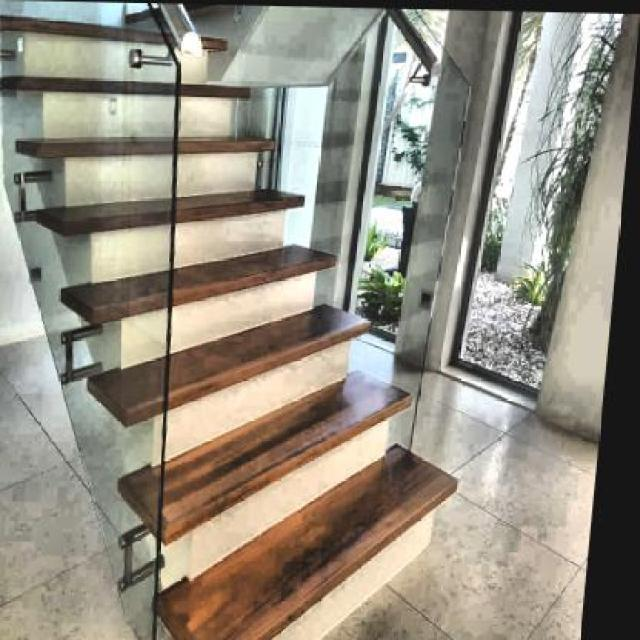stair: (0, 0, 504, 638)
